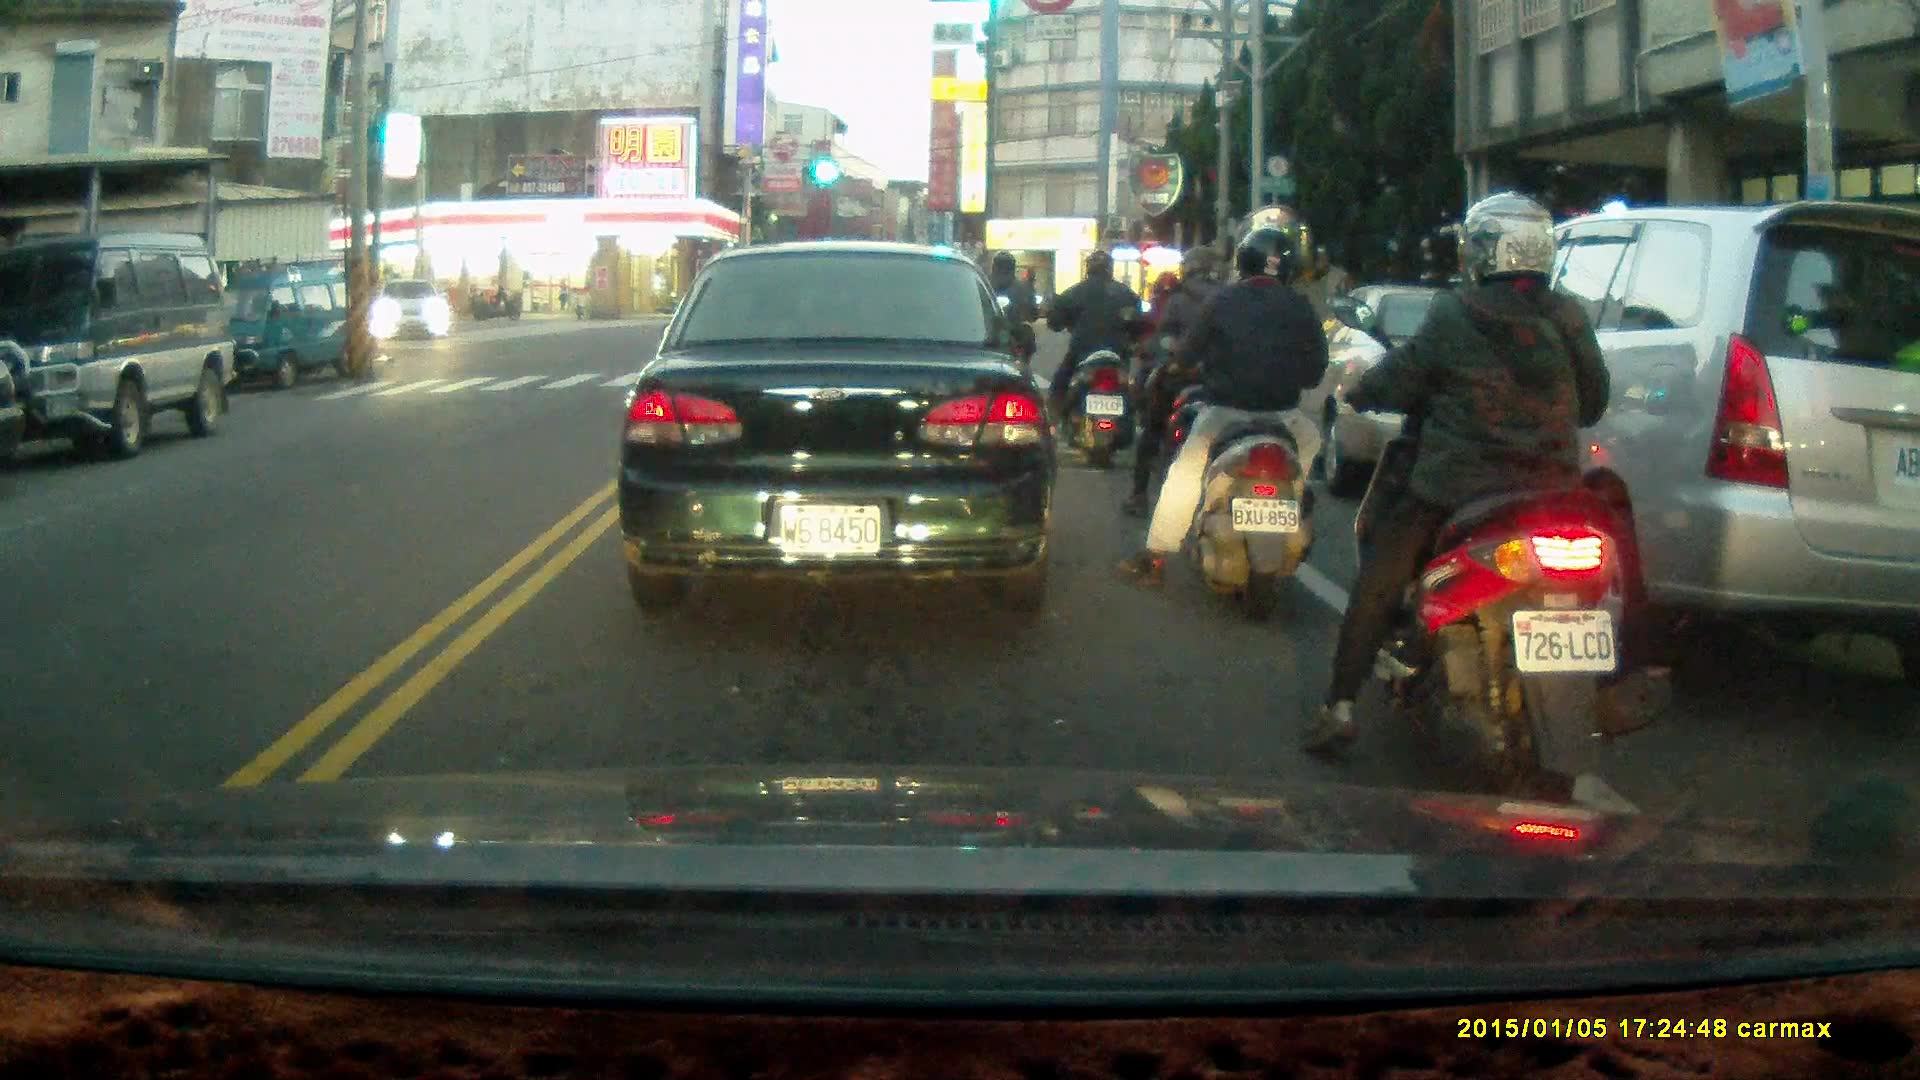rider: (1305, 190, 1670, 841), (1109, 226, 1327, 622), (1119, 244, 1239, 536), (1042, 250, 1144, 470), (1125, 270, 1201, 440), (962, 254, 1036, 408)
vehicle: (1391, 195, 1920, 685), (616, 241, 1058, 614), (1291, 284, 1605, 505), (1, 234, 219, 458), (193, 261, 370, 396), (372, 277, 451, 343)
